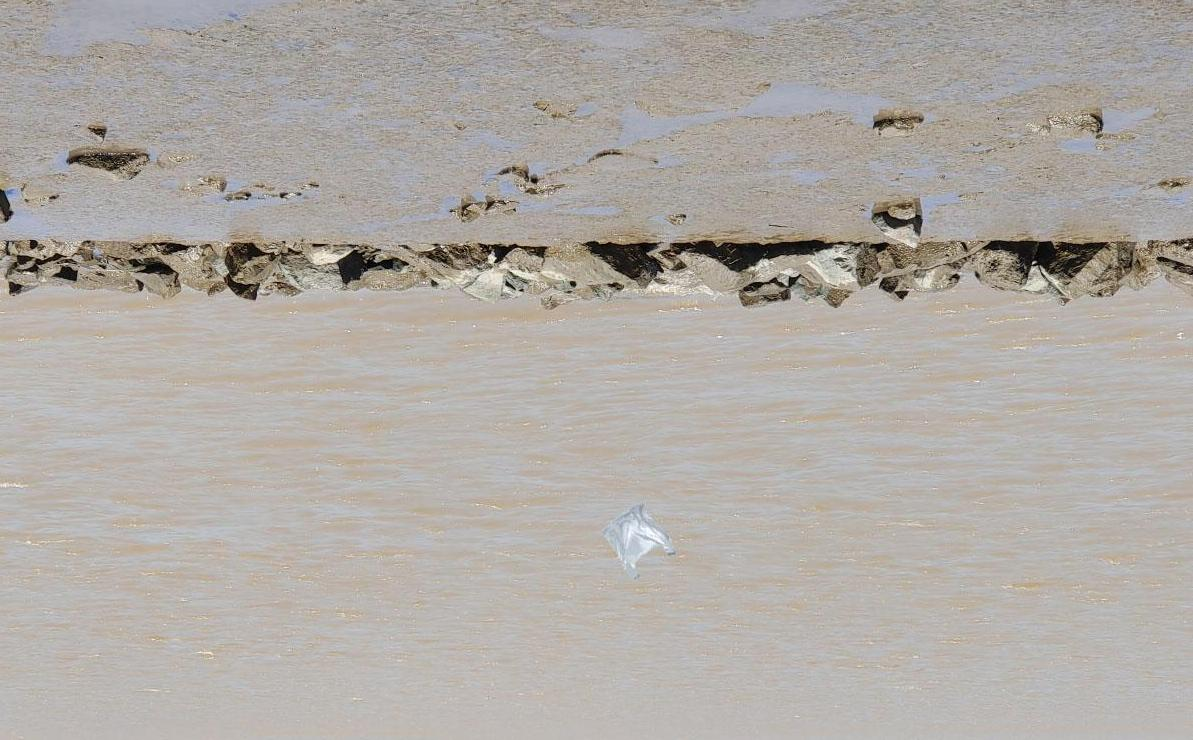Trash: (605, 502, 681, 587)
